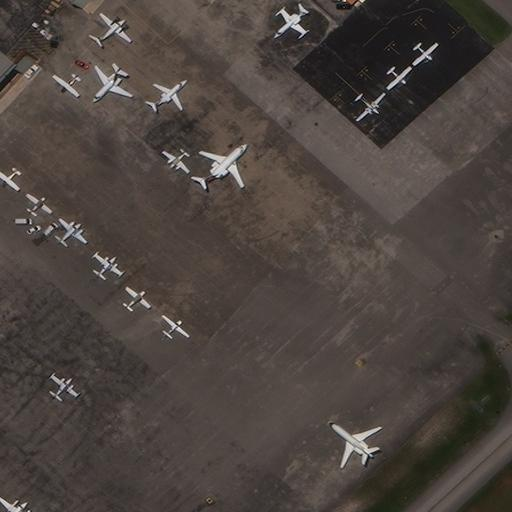Medium Civil Transport: (327, 420, 381, 469), (198, 144, 246, 187), (93, 66, 132, 102), (0, 495, 31, 511)
Small Civil Transport: (150, 79, 187, 110), (93, 13, 132, 42), (273, 7, 304, 38), (356, 94, 386, 121), (59, 217, 88, 242), (95, 253, 123, 277), (160, 151, 188, 175), (163, 314, 191, 338), (52, 373, 78, 397), (51, 75, 78, 98), (125, 285, 151, 308), (389, 67, 412, 90), (415, 44, 439, 66), (27, 193, 53, 212), (0, 169, 18, 191)
